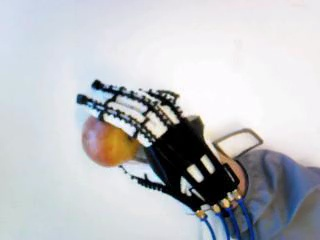apple: (80, 113, 140, 168)
hand: (77, 79, 238, 218)
